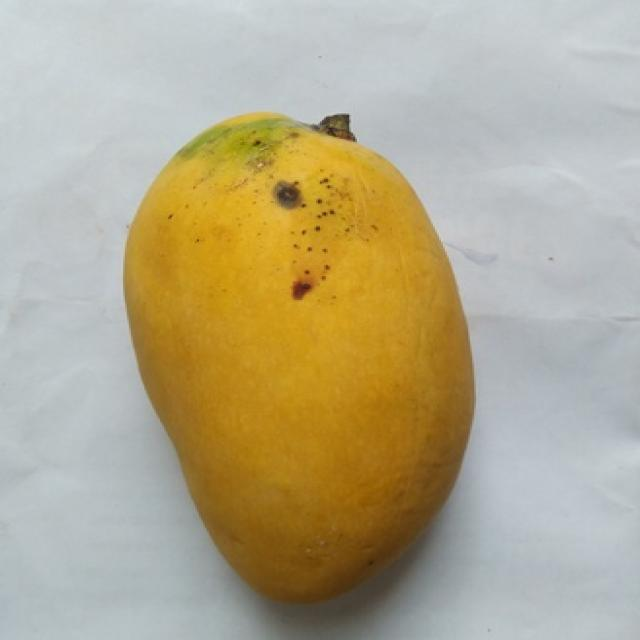Mango: (125, 113, 472, 600)
